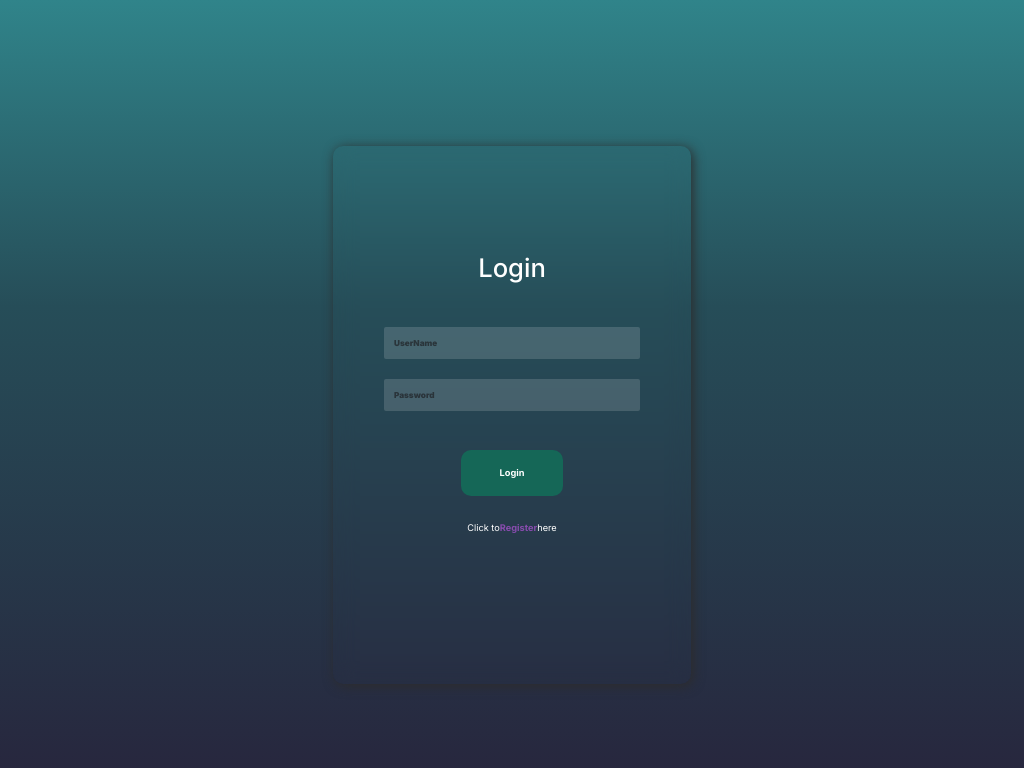
Test case: Form Component - Register and Login tests › Error displayed when Login Failed Test
The width and height of the screenshot is (1024, 768).
Type "testingtheusername" into the field with placeholder "UserName" at coordinates (512, 343), box [384, 327, 640, 359]
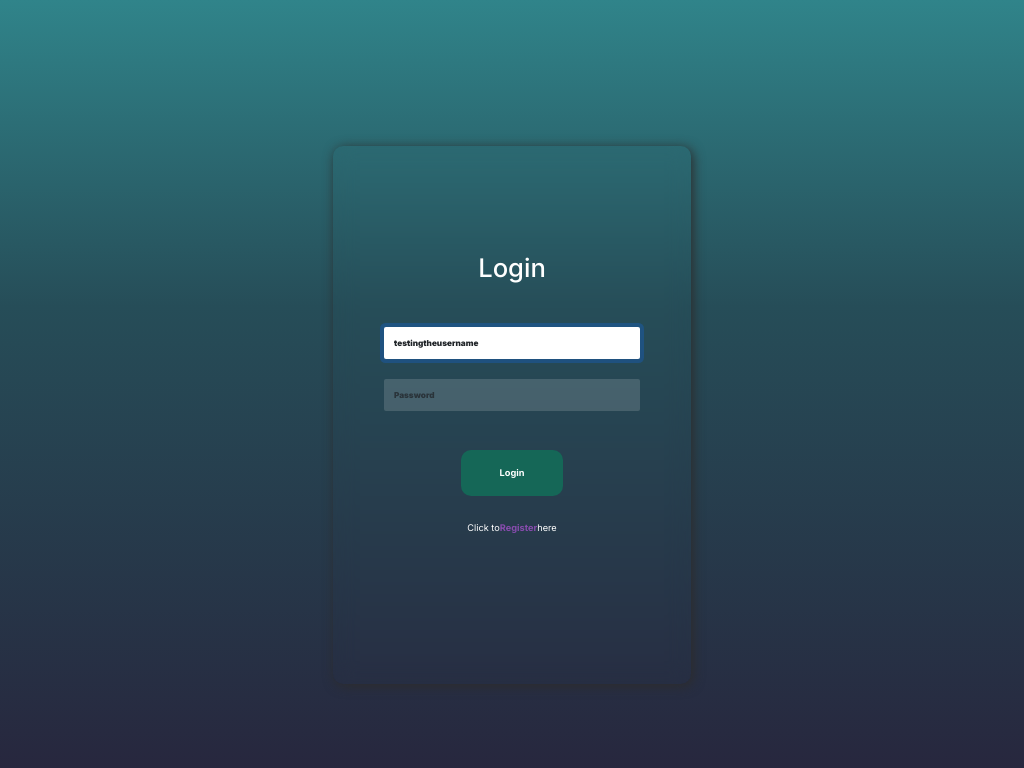
Type "incorrectpassword" into the password field with placeholder "Password" at coordinates (512, 395), box [384, 379, 640, 412]
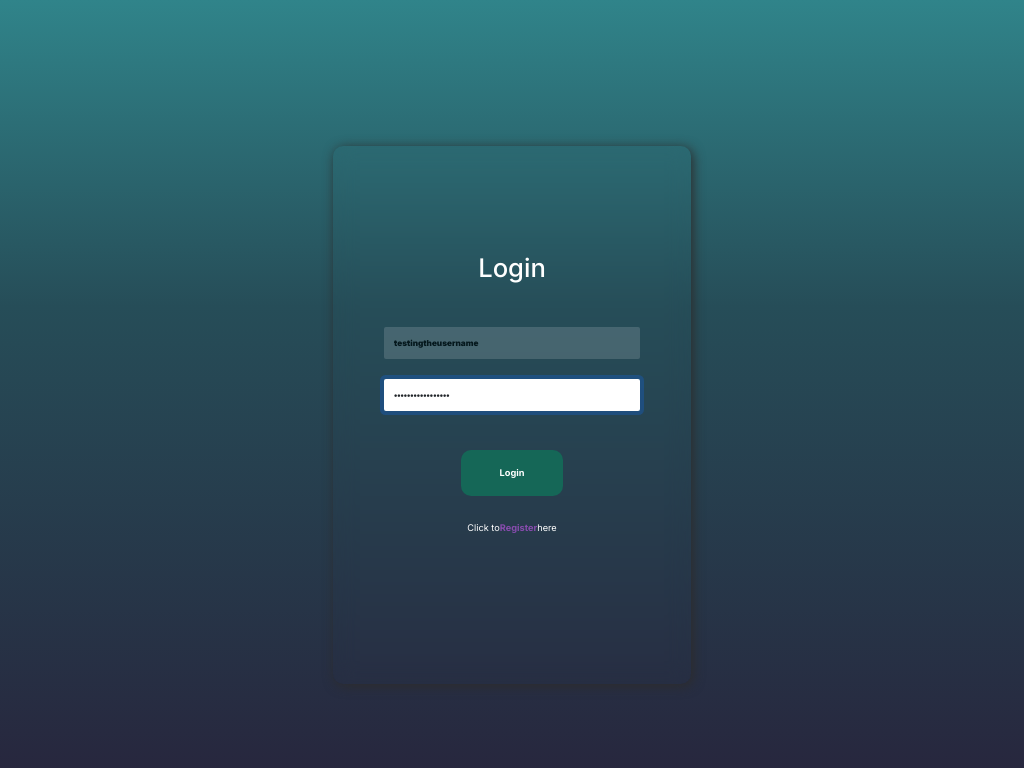
Click the button "Login" at coordinates (512, 473), box [461, 450, 563, 496]
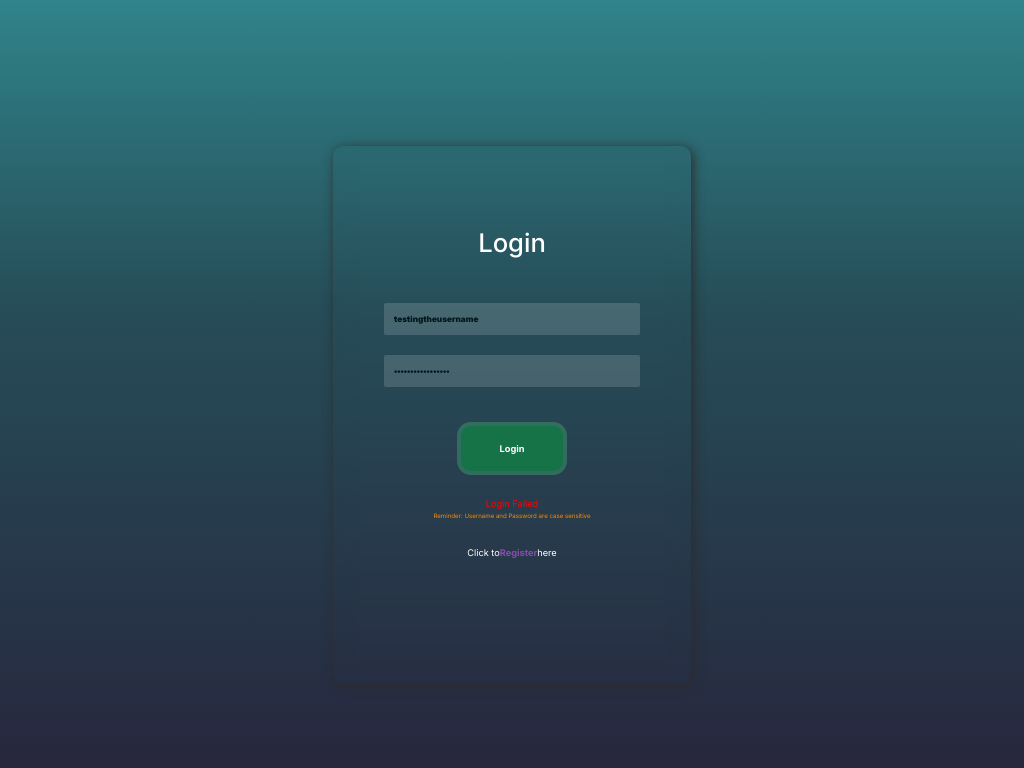
Expected: the text "Login Failed" is shown, [486, 498, 538, 509]
